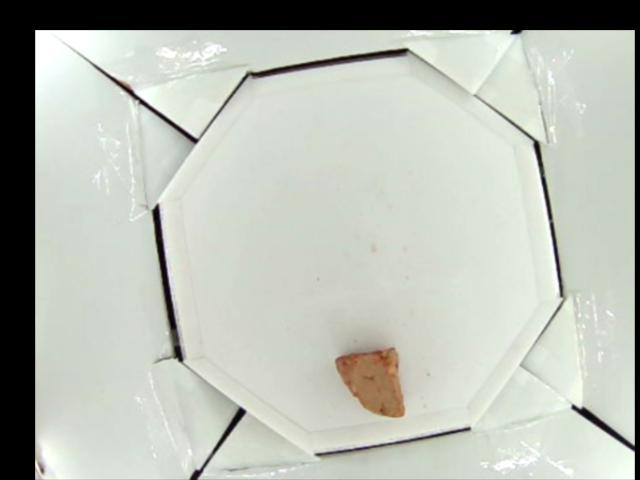Brisk: (334, 347, 406, 419)
